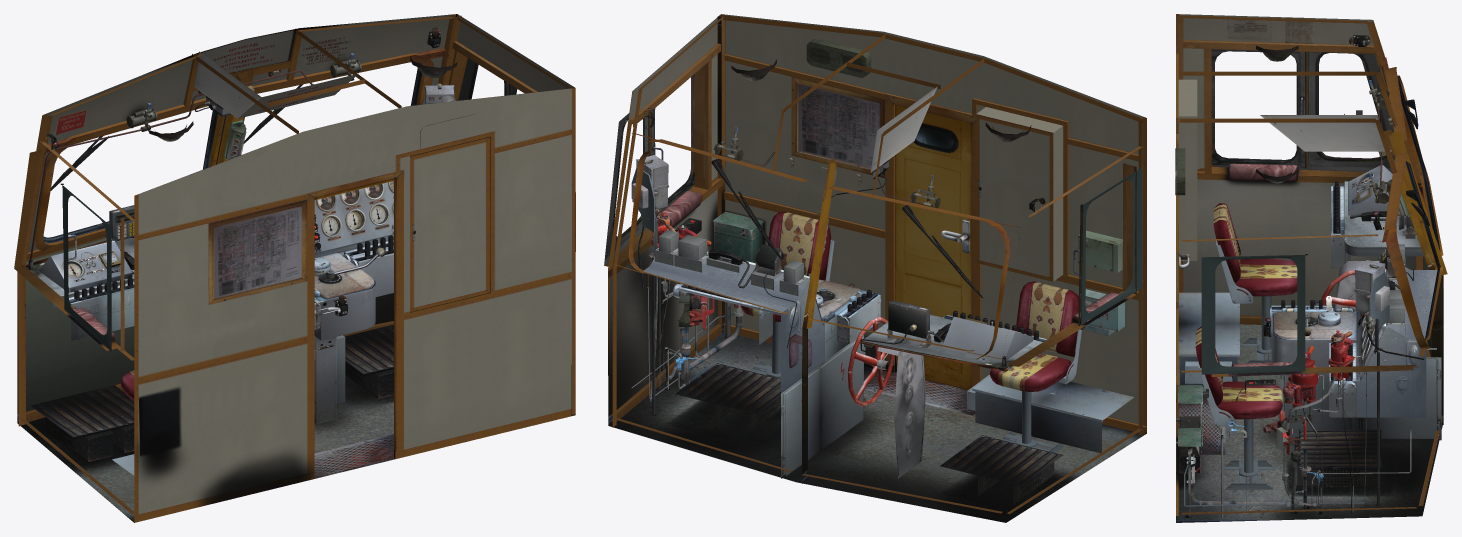
File: qwe.gltf
3 renders of one model, left to right at view 1: azimuth 30°, elevation 25°; view 2: azimuth 150°, elevation 25°; view 3: azimuth 270°, elevation 25°, orthographic. The views are drawn at different scales.
Visible parts, largest first — view 1: 02 - Default, 01 - Default, map-1.003, map-1, map-2.052, map-1.013, map-2.051, map-1.022, 10 - Default.001, map-1.018, 04 - Default; view 2: 02 - Default, map-1.003, 01 - Default, map-1.005, map-1, map-1.004, map-2.052, map-1.001, map-1.013, 02 - Default.001, map-1.020, map-4 (+9 smaller); view 3: 02 - Default, 01 - Default, map-1.003, map-1.005, map-1.013, map-1, map-2.052, 02 - Default.001, map-1.004, 08 - Default, map-4, map-1.012 (+13 smaller).
Part boxes in pixels (bbox=[...]): 02 - Default: bbox=[14, 14, 575, 522]; 01 - Default: bbox=[314, 182, 393, 424]; map-1.003: bbox=[17, 375, 394, 522]; map-1: bbox=[30, 324, 393, 461]; map-2.052: bbox=[26, 238, 134, 341]; map-1.013: bbox=[60, 84, 516, 351]; map-2.051: bbox=[318, 181, 393, 235]; map-1.022: bbox=[28, 70, 313, 269]; 10 - Default.001: bbox=[105, 205, 134, 274]; map-1.018: bbox=[146, 56, 457, 141]; 04 - Default: bbox=[224, 120, 246, 159]; 02 - Default: bbox=[604, 14, 1146, 514]; map-1.003: bbox=[608, 332, 1146, 522]; 01 - Default: bbox=[643, 230, 881, 478]; map-1.005: bbox=[740, 211, 1081, 452]; map-1: bbox=[675, 363, 1062, 504]; map-1.004: bbox=[967, 375, 1134, 452]; map-2.052: bbox=[859, 314, 1047, 371]; map-1.001: bbox=[877, 347, 925, 478]; map-1.013: bbox=[648, 74, 1142, 325]; 02 - Default.001: bbox=[631, 231, 741, 401]; map-1.020: bbox=[1078, 230, 1124, 335]; map-4: bbox=[713, 212, 763, 317]; 02 - Default: bbox=[1176, 14, 1447, 515]; 01 - Default: bbox=[1270, 244, 1441, 440]; map-1.003: bbox=[1176, 324, 1442, 522]; map-1.005: bbox=[1195, 203, 1297, 489]; map-1.013: bbox=[1201, 49, 1307, 374]; map-1: bbox=[1294, 300, 1381, 487]; map-2.052: bbox=[1331, 165, 1426, 268]; 02 - Default.001: bbox=[1183, 332, 1411, 518]; map-1.004: bbox=[1178, 292, 1239, 387]; 08 - Default: bbox=[1354, 260, 1389, 333]; map-4: bbox=[1178, 385, 1202, 484]; map-1.012: bbox=[1228, 163, 1298, 181].
Bounding box in the file's own units: 3.03 × 2.22 × 1.66.
12 materials, 12 textured.
